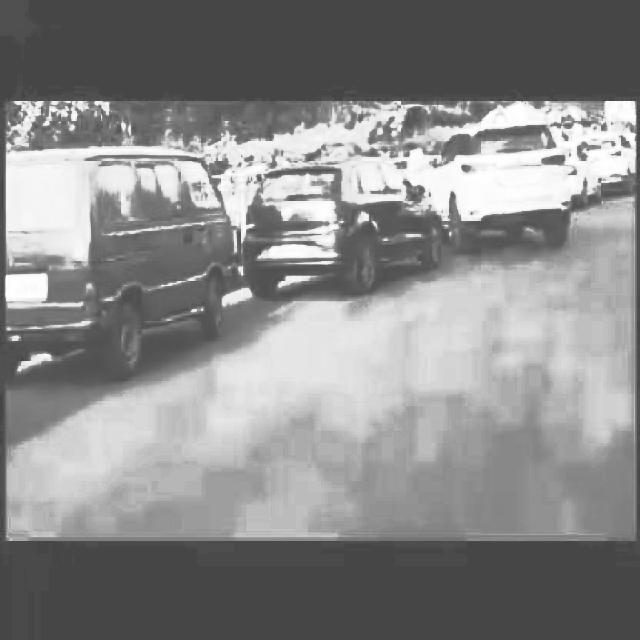Car: (6, 134, 233, 389), (248, 155, 433, 278), (436, 121, 564, 244), (584, 129, 638, 212)
